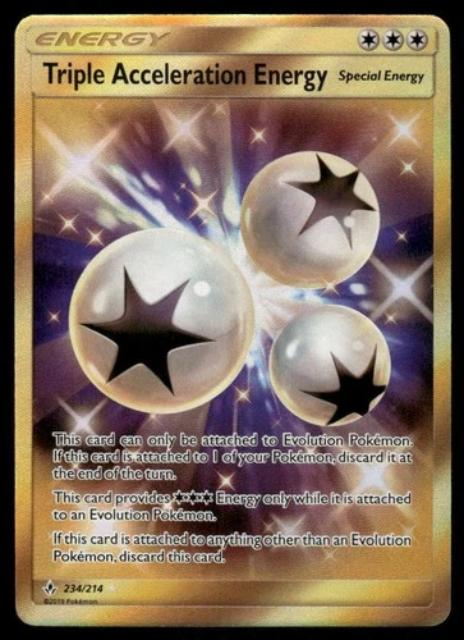Card: (10, 9, 458, 632)
Name: (37, 56, 336, 97)
